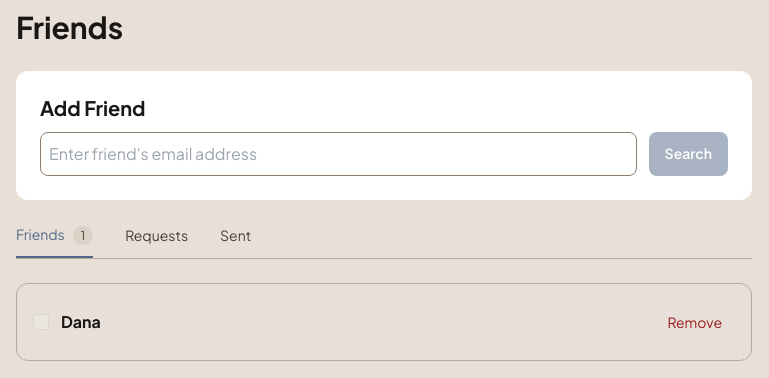
it: remove friend (two-tap tier) › arms on the first tap and sends nothing
This screenshot has width=769, height=378.
Click the button with aria-label "Remove Dana" at (695, 322), box [654,300,735,344]
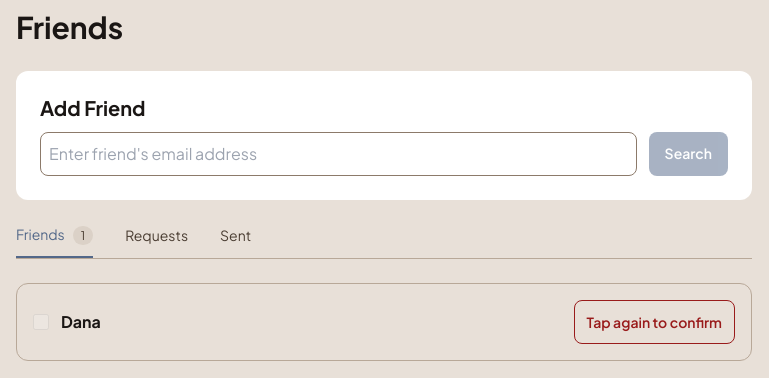
Expected: the text "Dana" is shown, [61,310,101,334]
Now the button "Tap again to confirm" is shown, box [574,300,735,344]
